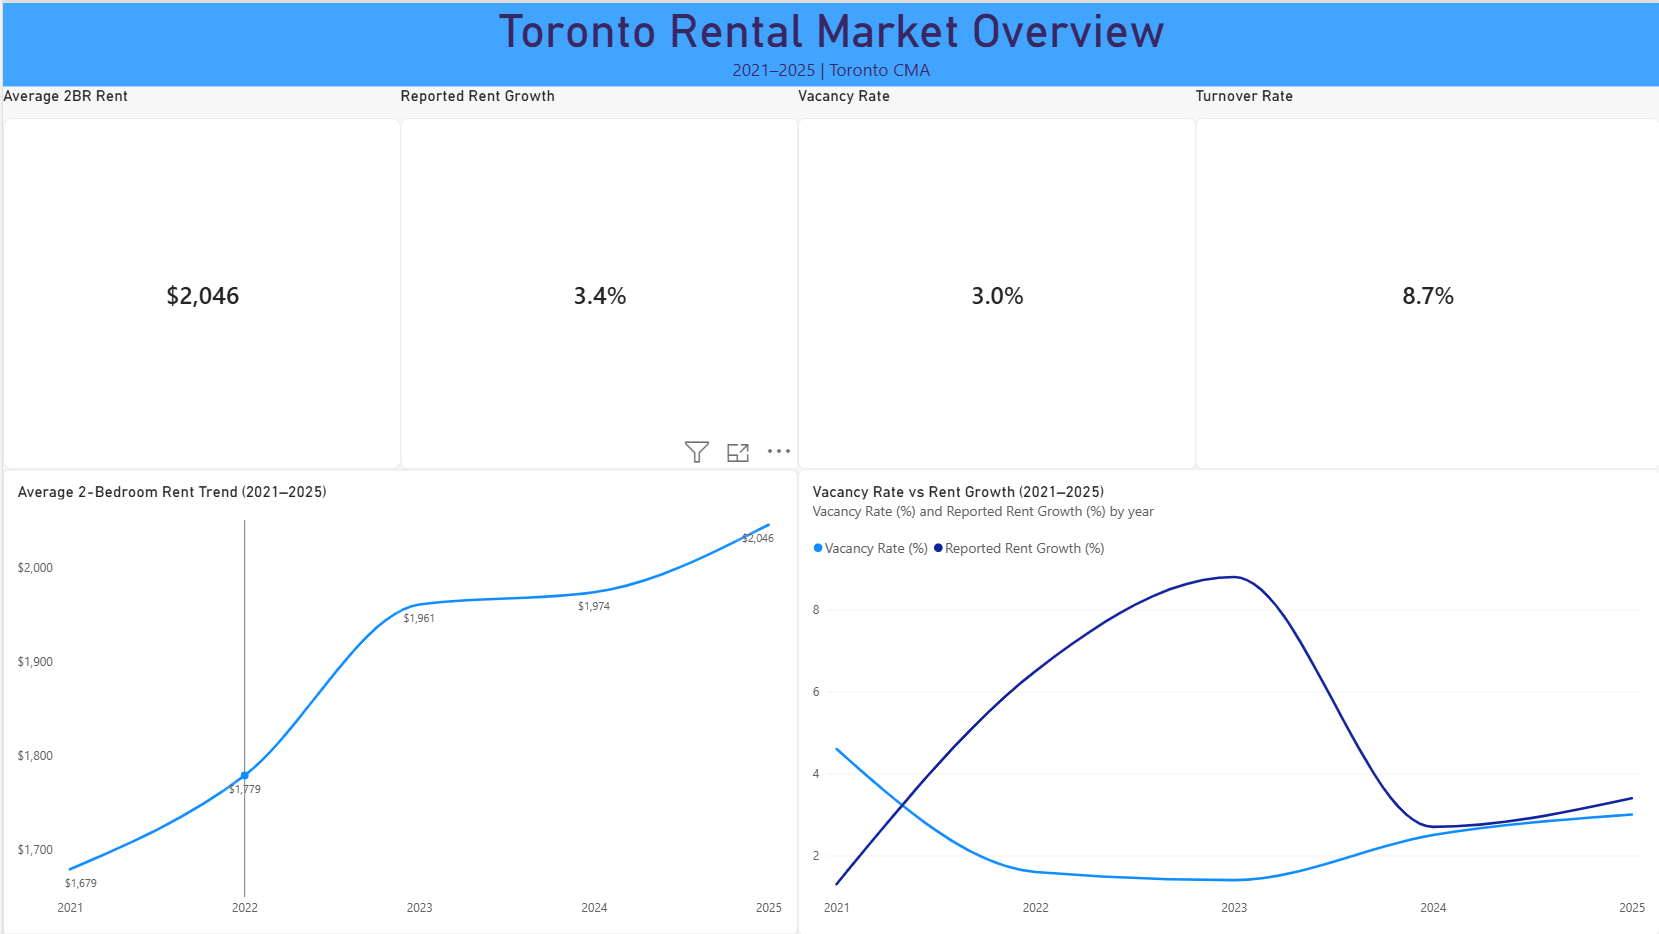

This screenshot's page, from the dashboard's own definition file:
{"tool":"powerbi","page":{"name":"第 1 页","canvas":[1920,1080],"ordinal":0},"visuals":[{"type":"cardVisual","title":"Vacancy Rate","fields":{"Data":["rental_market_analysis.Vacancy Rate Display"]},"box":[920.5,96.9,461.2,443.2],"z":0},{"type":"cardVisual","title":"Average 2BR Rent","fields":{"Data":["Sum(toronto_rental rental_market_analysis.avg_rent_2br)"]},"box":[0,96.9,461.2,443.2],"z":1000},{"type":"cardVisual","title":"Reported Rent Growth","fields":{"Data":["rental_market_analysis.Reported Rent Growth Display"]},"box":[461.2,96.9,461.2,443.2],"z":2000},{"type":"cardVisual","title":"Turnover Rate","fields":{"Data":["rental_market_analysis.Turnover Rate Display"]},"box":[1381.7,96.9,538.3,443.2],"z":3000},{"type":"textbox","title":"Toronto Rental Market Overview","box":[0,0,1920,96.9],"z":3001},{"type":"lineChart","title":"Average 2-Bedroom Rent Trend (2021–2025)","fields":{"Category":["toronto_rental rental_market_analysis.year"],"Y":["Sum(toronto_rental rental_market_analysis.avg_rent_2br)"]},"box":[0,540.1,920.5,540.1],"z":3002},{"type":"lineChart","title":"Vacancy Rate vs Rent Growth (2021–2025)","fields":{"Category":["toronto_rental rental_market_analysis.year"],"Y":["Sum(toronto_rental rental_market_analysis.vacancy_rate)","Sum(toronto_rental rental_market_analysis.reported_growth)"]},"box":[920.5,540.1,999.5,540.1],"z":3003}]}

Visuals, with their boxes in screenshot pixels (x1, y1, x2, y2), scaled from the page's 1920x1080 canvas onto the 1659x934 screenshot:
"Vacancy Rate" cardVisual: x1=795 y1=84 x2=1194 y2=467
"Average 2BR Rent" cardVisual: x1=0 y1=84 x2=399 y2=467
"Reported Rent Growth" cardVisual: x1=399 y1=84 x2=797 y2=467
"Turnover Rate" cardVisual: x1=1194 y1=84 x2=1658 y2=467
"Toronto Rental Market Overview" textbox: x1=0 y1=0 x2=1658 y2=84
"Average 2-Bedroom Rent Trend (2021–2025)" lineChart: x1=0 y1=467 x2=795 y2=933
"Vacancy Rate vs Rent Growth (2021–2025)" lineChart: x1=795 y1=467 x2=1658 y2=933
